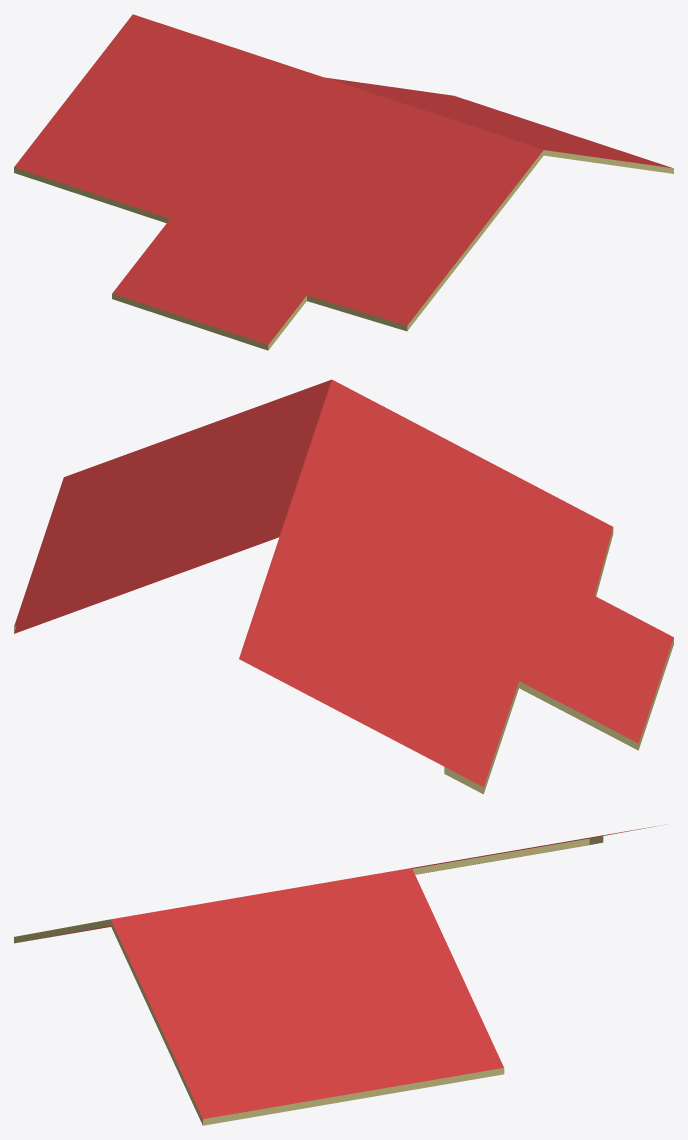
3 renders of one model, top to bottom at view 1: azimuth 30°, elevation 25°; view 2: azimuth 150°, elevation 25°; view 3: azimuth 270°, elevation 25°, orthographic. The views are drawn at different scales.
Size of the model in its own units: 9.39 by 9.12 by 2.44.
